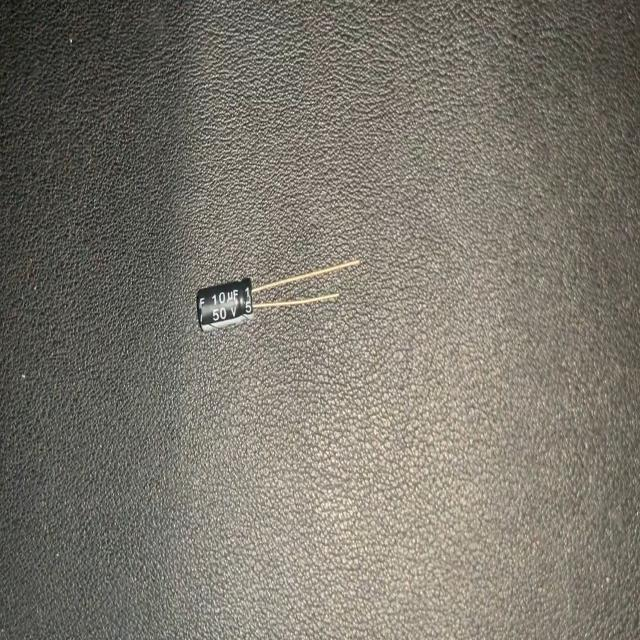capacitor: (195, 254, 364, 338)
